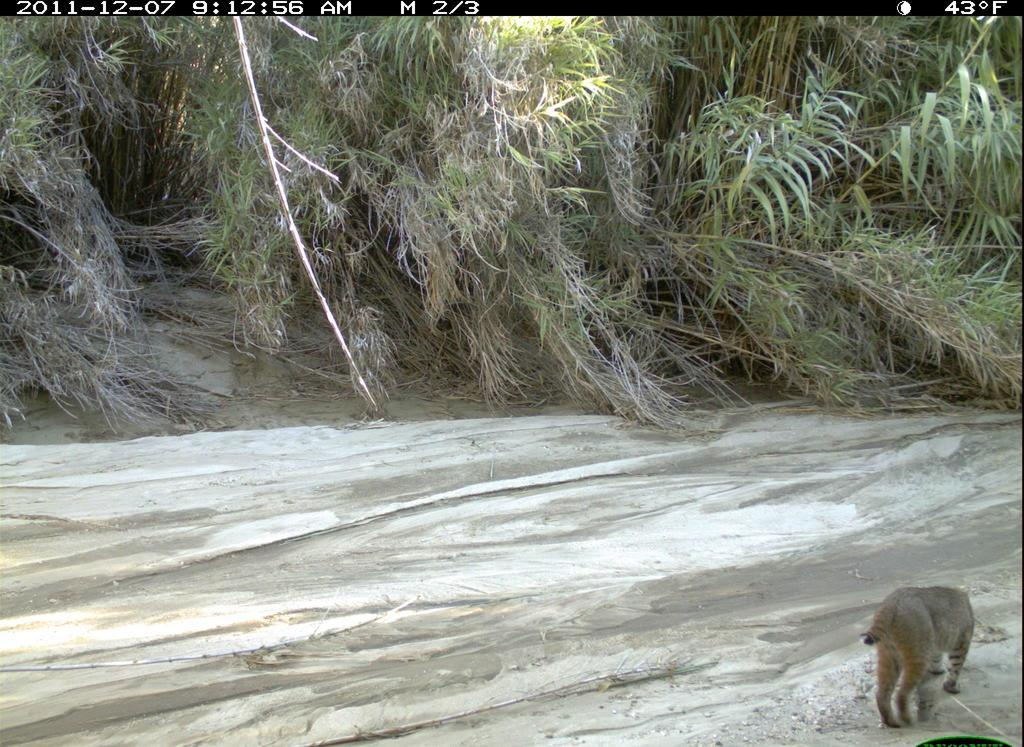bobcat: (857, 580, 982, 738)
